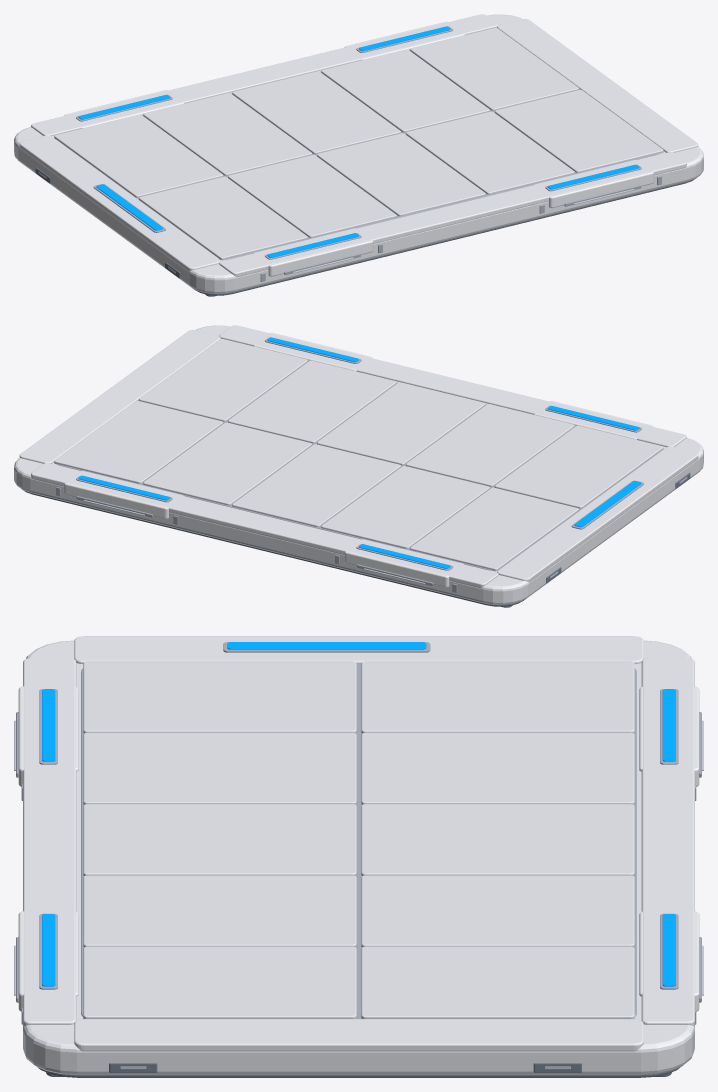
Rendered from 01-nodeworks-base-floor.glb.
3 renders of one model, top to bottom at view 1: azimuth 30°, elevation 25°; view 2: azimuth 150°, elevation 25°; view 3: azimuth 270°, elevation 25°, orthographic. The views are drawn at different scales.
Visible parts, largest first — view 1: main_rounded_chassis, floor_panel_1_1, floor_panel_5_1, floor_panel_4_1, floor_panel_3_1, floor_panel_2_1, floor_panel_1_2, floor_panel_4_2, floor_panel_3_2, floor_panel_2_2, floor_panel_5_2, front_rail (+14 smaller); view 2: main_rounded_chassis, floor_panel_1_2, floor_panel_5_2, floor_panel_4_2, floor_panel_3_2, floor_panel_2_2, floor_panel_1_1, floor_panel_4_1, floor_panel_3_1, floor_panel_2_1, floor_panel_5_1, back_rail (+14 smaller); view 3: main_rounded_chassis, floor_panel_5_1, floor_panel_5_2, floor_panel_3_1, floor_panel_3_2, floor_panel_2_1, floor_panel_2_2, floor_panel_1_1, floor_panel_1_2, floor_panel_4_1, floor_panel_4_2, right_rail (+15 smaller).
Part boxes in pixels (x1,y1,x2,y2): main_rounded_chassis: [14, 14, 703, 293]; floor_panel_1_1: [139, 176, 307, 260]; floor_panel_5_1: [494, 89, 663, 172]; floor_panel_4_1: [406, 111, 574, 194]; floor_panel_3_1: [317, 133, 485, 216]; floor_panel_2_1: [228, 155, 396, 237]; floor_panel_1_2: [54, 114, 223, 197]; floor_panel_4_2: [321, 49, 489, 132]; floor_panel_3_2: [232, 71, 400, 154]; floor_panel_2_2: [143, 93, 311, 175]; floor_panel_5_2: [410, 28, 578, 110]; front_rail: [219, 152, 686, 277]; main_rounded_chassis: [14, 325, 703, 604]; floor_panel_1_2: [410, 487, 578, 571]; floor_panel_5_2: [54, 400, 223, 483]; floor_panel_4_2: [143, 422, 311, 505]; floor_panel_3_2: [232, 444, 400, 527]; floor_panel_2_2: [321, 466, 489, 548]; floor_panel_1_1: [494, 425, 663, 508]; floor_panel_4_1: [228, 360, 396, 443]; floor_panel_3_1: [317, 382, 485, 465]; floor_panel_2_1: [406, 404, 574, 486]; floor_panel_5_1: [139, 339, 307, 421]; back_rail: [31, 463, 498, 588]; main_rounded_chassis: [23, 640, 694, 1075]; floor_panel_5_1: [83, 946, 356, 1018]; floor_panel_5_2: [361, 946, 634, 1018]; floor_panel_3_1: [83, 804, 356, 875]; floor_panel_3_2: [361, 804, 634, 875]; floor_panel_2_1: [83, 732, 356, 804]; floor_panel_2_2: [361, 732, 634, 804]; floor_panel_1_1: [83, 661, 356, 733]; floor_panel_1_2: [361, 661, 634, 733]; floor_panel_4_1: [83, 875, 356, 947]; floor_panel_4_2: [361, 875, 634, 947]; right_rail: [74, 1019, 643, 1051].
Size of the model in its own units: 3.61 by 0.182 by 2.57.
